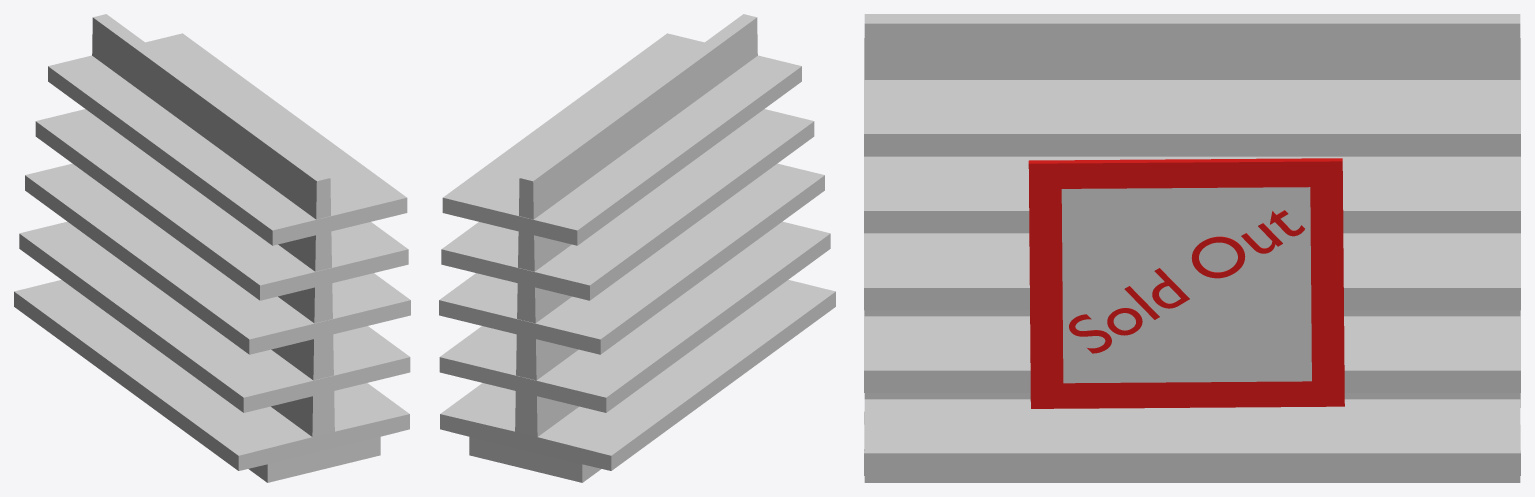
Rendered from PRATELEIRA 1.fbx.
3 renders of one model, left to right at view 1: azimuth 30°, elevation 25°; view 2: azimuth 150°, elevation 25°; view 3: azimuth 270°, elevation 25°, orthographic. The views are drawn at different scales.
Visible parts, largest first — view 1: Text; view 2: Text; view 3: Text.
Boxes of the visible parts, box(x1,y1,x2,y2) form: Text: box(14, 14, 410, 482); Text: box(439, 14, 835, 482); Text: box(864, 14, 1520, 482).
Bounding box in the file's own units: 1617 × 2490 × 3499.
